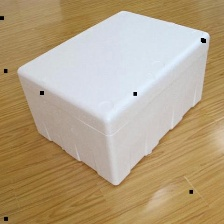foam_box: (12, 5, 214, 189)
